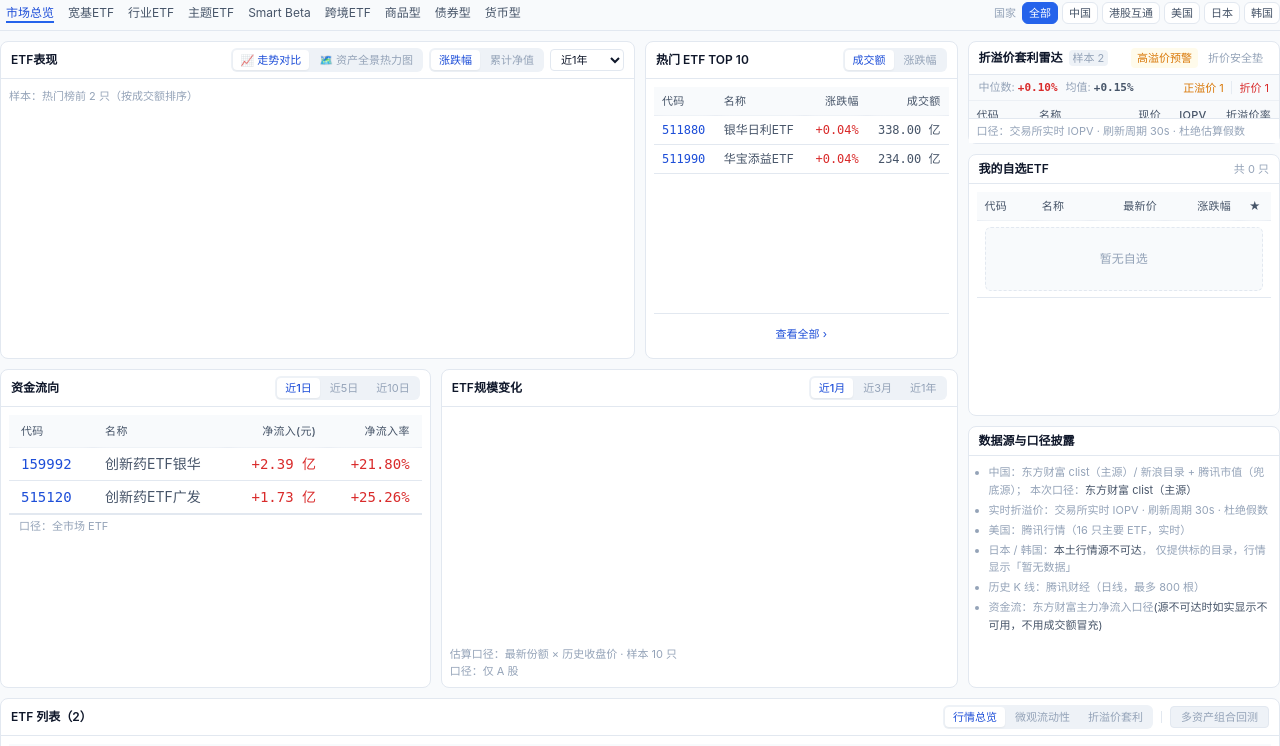
Test: ETF列表三重视图与多资产勾选 › 支持切换至「折溢价套利」视图并展示 IOPV 和折溢价率列头
The width and height of the screenshot is (1280, 746).
Expected: the text "创新药ETF银华" is shown, [93, 448, 228, 481]
Click the button "折溢价套利" at (1116, 717), box [1080, 707, 1151, 727]
(page scrolled)
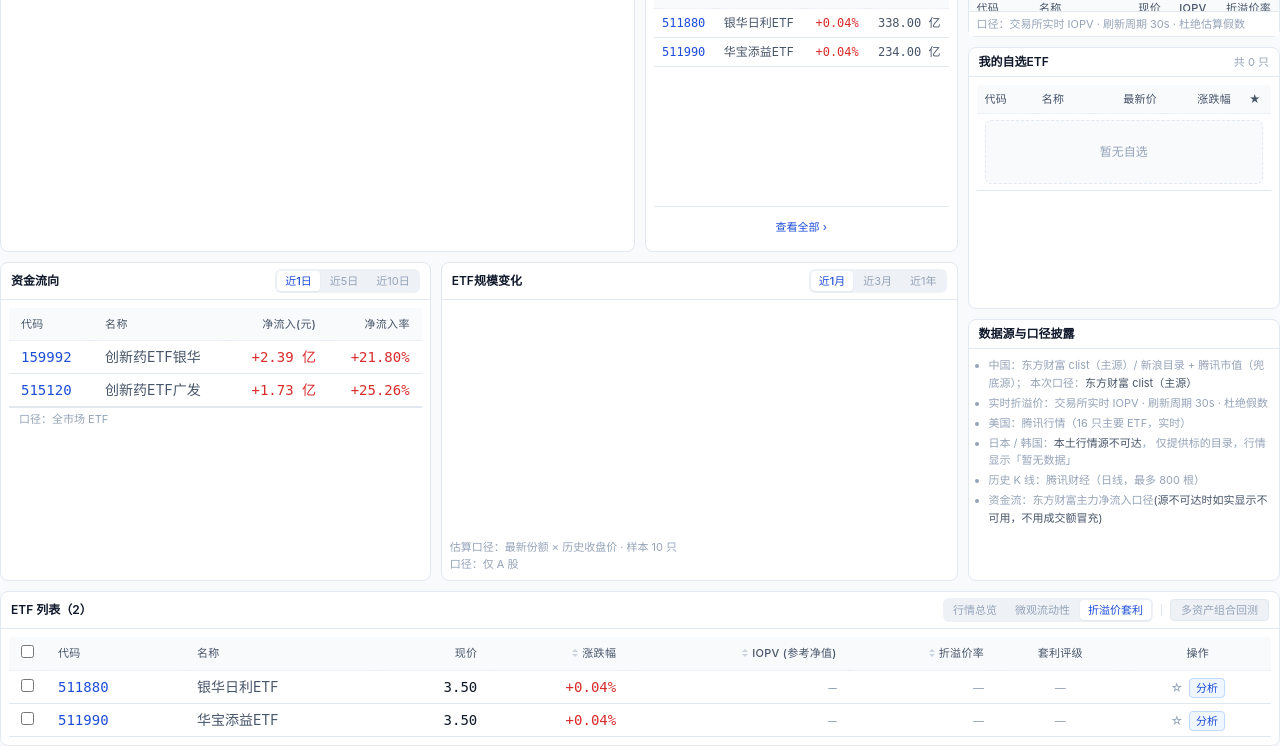
Now the text "IOPV (参考净值)" is shown, box [752, 645, 837, 661]
Now the column heading "套利评级" is shown, box [996, 637, 1125, 670]
